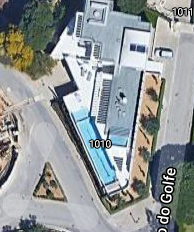pool: (75, 120, 116, 181)
